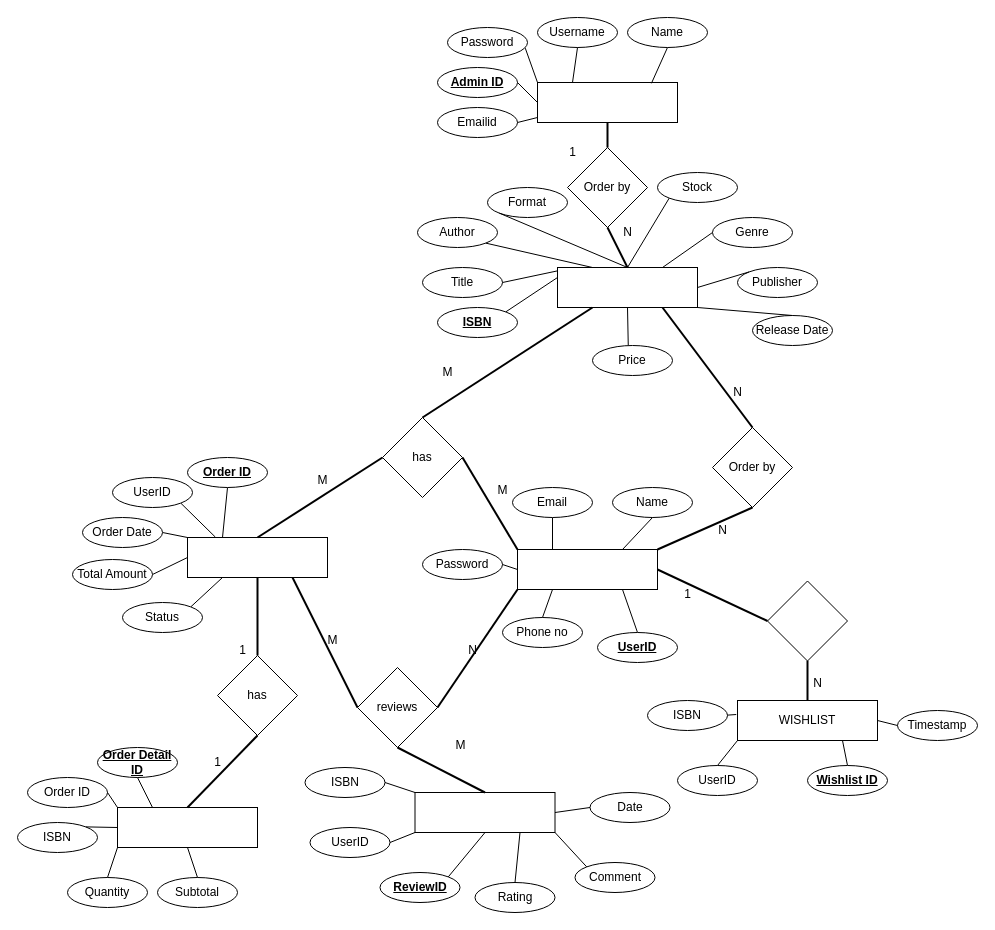
Image size: 995x930. Some labels were removed from this diagram. The centre of each missing label's shape, as x and y in pixels:
"ADMIN" belongs at [607,102].
"BOOKS" belongs at [627,287].
"makers" belongs at [807,620].
"ORDER" belongs at [257,557].
"ORDER DETAILS" belongs at [187,827].
"REVIEW" belongs at [484,812].
"USER" belongs at [587,569].
